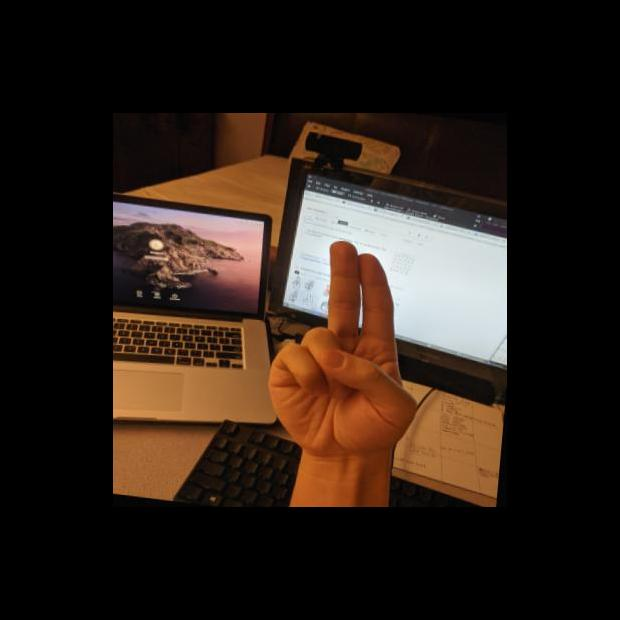T: (260, 227, 436, 468)
